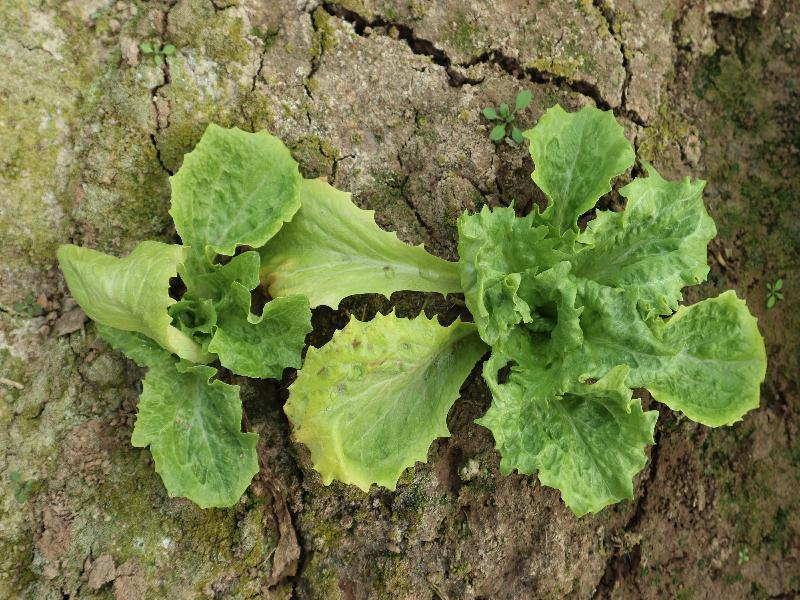lettuce: (453, 102, 767, 518), (54, 122, 313, 507)
